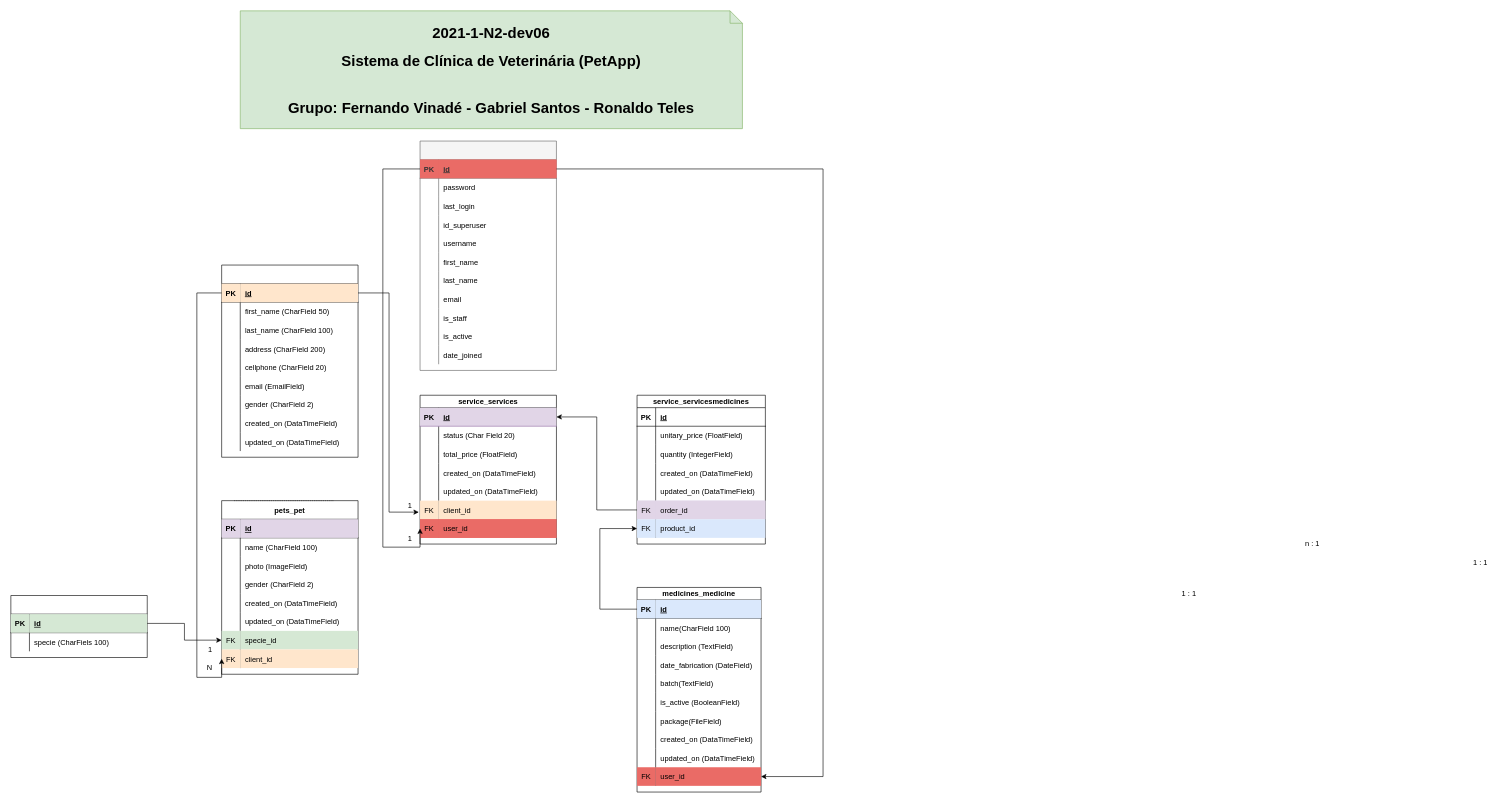
Image size: 1504x803. Some labels were removed from this diagram. Here are the shapes that lost their labels. From the top down, the box of each, then its label:
(419, 140, 556, 370): auth_user(employe_employers)
(221, 264, 358, 457): clients_client
(10, 595, 147, 658): species_specie
